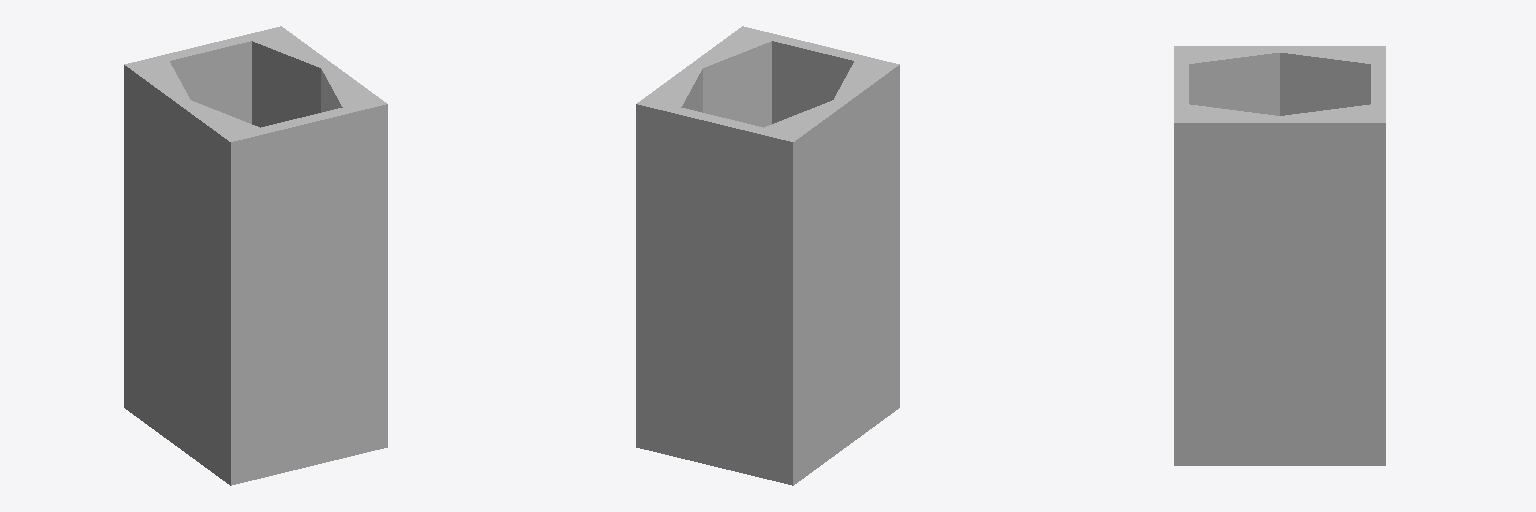
File: 1Ybase.obj
3 renders of one model, left to right at view 1: azimuth 30°, elevation 25°; view 2: azimuth 150°, elevation 25°; view 3: azimuth 270°, elevation 25°, orthographic.
Visible parts, largest first — view 1: Mesh.001_Mesh.002_Ybase; view 2: Mesh.001_Mesh.002_Ybase; view 3: Mesh.001_Mesh.002_Ybase.
Part boxes in pixels (x1,y1,x2,y2): Mesh.001_Mesh.002_Ybase: (124,26,387,485); Mesh.001_Mesh.002_Ybase: (636,26,899,485); Mesh.001_Mesh.002_Ybase: (1174,46,1385,465).
Bounding box in the file's own units: 175 × 365 × 205.